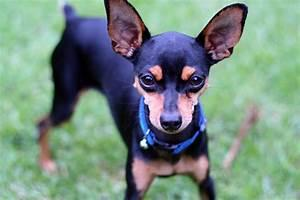dog: (35, 0, 249, 199)
